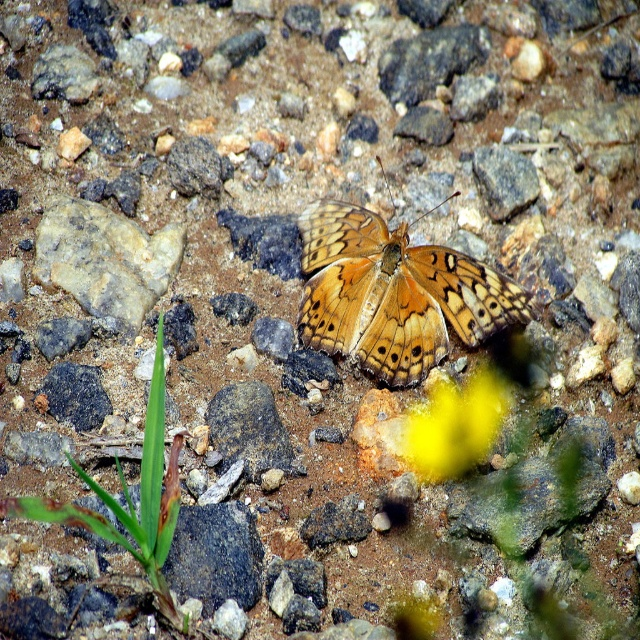Butterfly: (283, 180, 529, 391)
